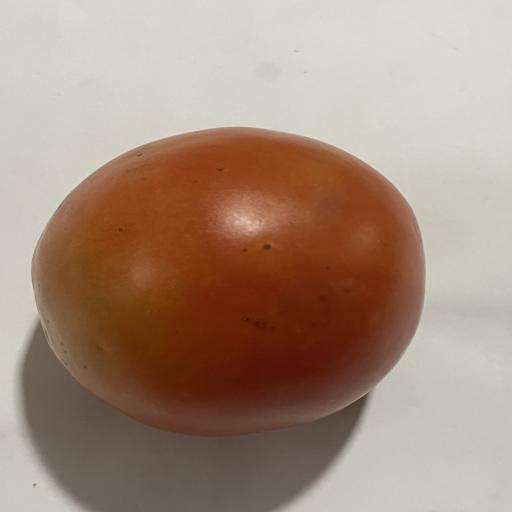ripe: (32, 128, 425, 435)
